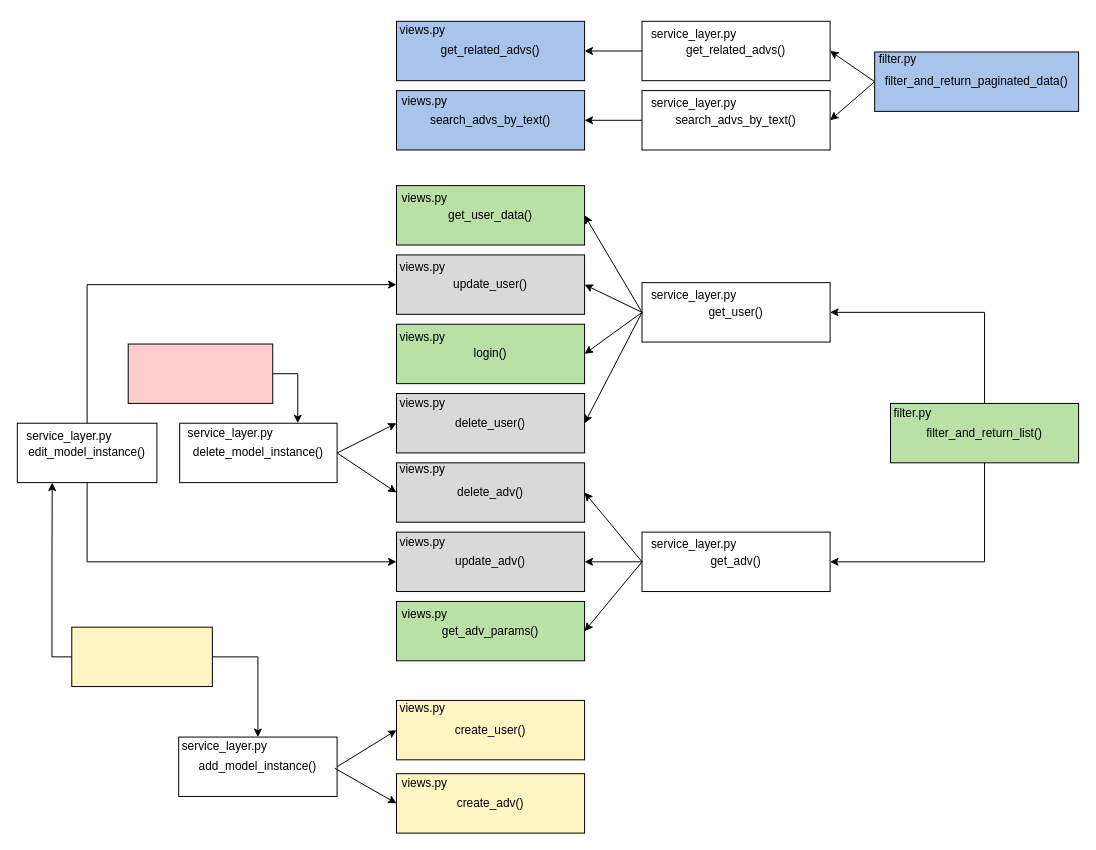
Image size: 1096x850. Some labels were removed from this diagram. The shapes that lost their labels are listed below. From the top down, each one's centre as x and y in pixels, then its label:
At point (200, 373): "request.session.delete()".
At point (141, 656): "request.session.add()".
